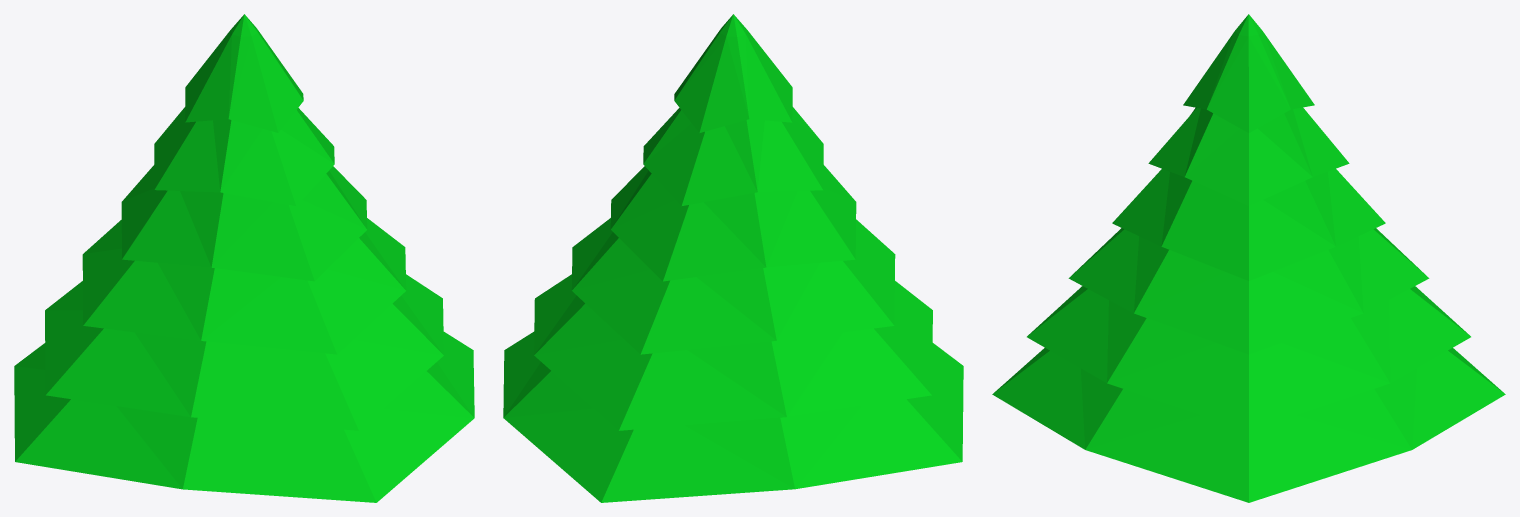
Rendered from tanne198.dae.
3 renders of one model, left to right at view 1: azimuth 30°, elevation 25°; view 2: azimuth 150°, elevation 25°; view 3: azimuth 270°, elevation 25°, orthographic. The views are drawn at different scales.
Visible parts, largest first — view 1: Tanne2; view 2: Tanne2; view 3: Tanne2.
Boxes of the visible parts, x1,y1,x2,y2 form: Tanne2: (14, 14, 474, 502); Tanne2: (503, 14, 963, 502); Tanne2: (992, 14, 1505, 502).
Size of the model in its own units: 6.4 by 6.4 by 5.89.
